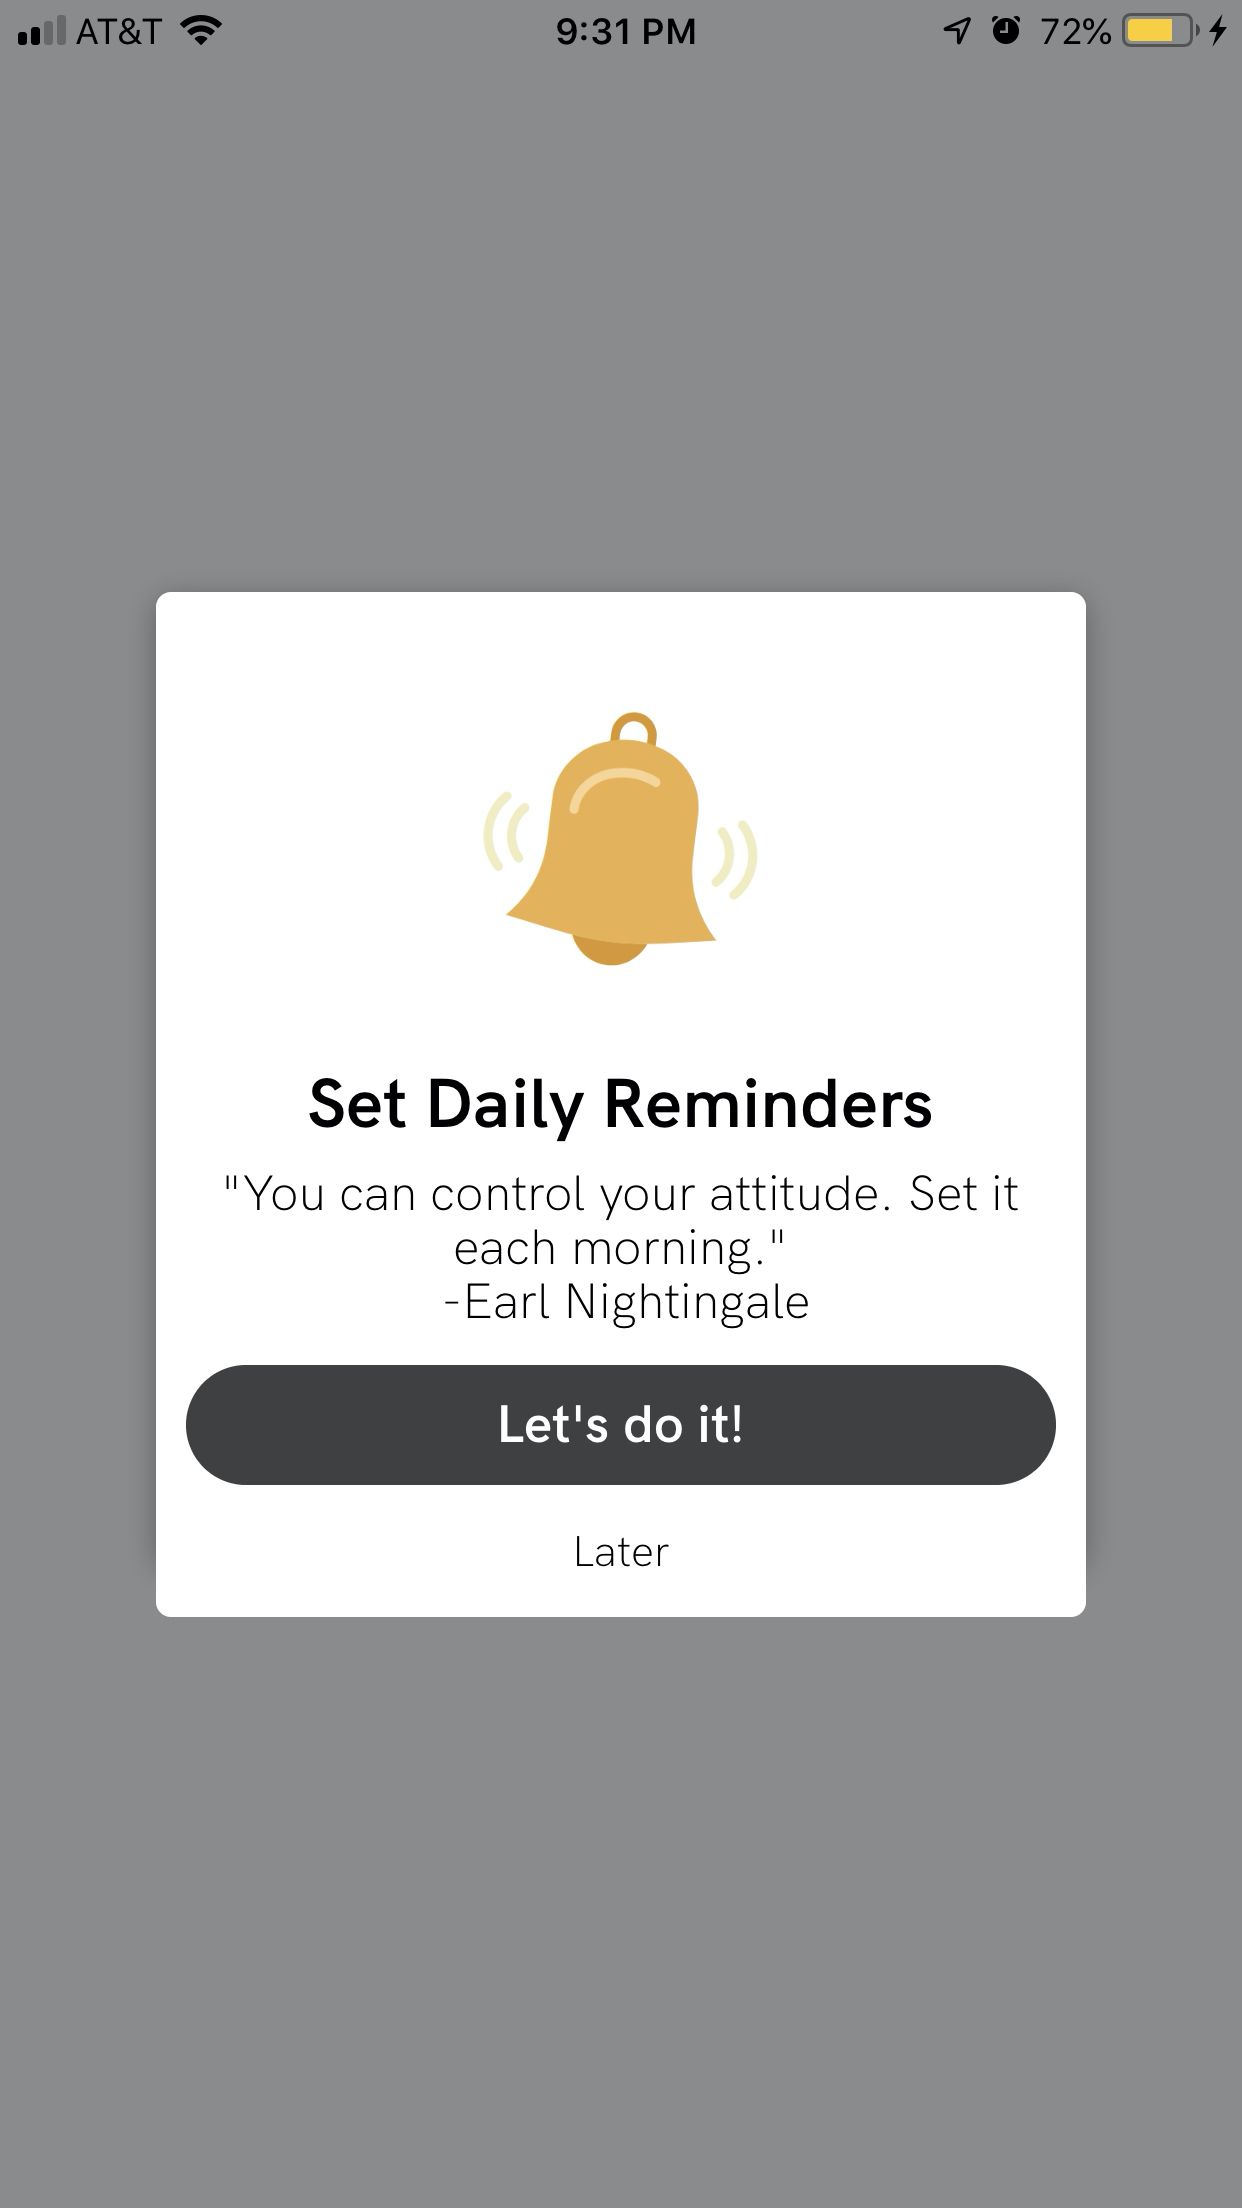Image: (482, 713, 760, 968)
Modal: (156, 591, 1087, 1618)
Text: (226, 1174, 1019, 1328), (309, 1077, 933, 1143), (576, 1535, 670, 1568)
TextButton: (187, 1363, 1057, 1486)
UpperTaskBar: (2, 2, 1242, 49)
